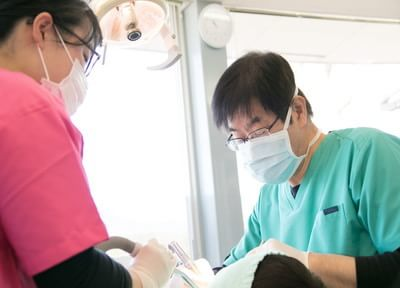mask: (239, 131, 306, 185), (41, 60, 88, 118)
